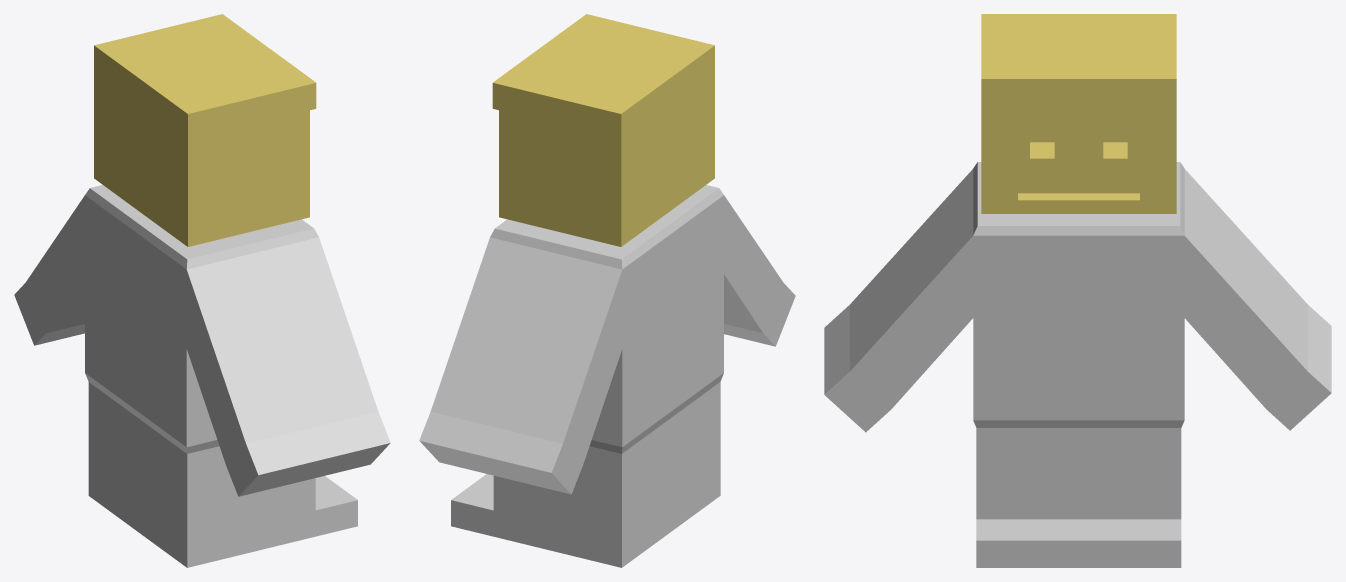
The model's file is guy.glb.
The picture shows the model from 3 angles, left to right: view 1: azimuth 30°, elevation 25°; view 2: azimuth 150°, elevation 25°; view 3: azimuth 270°, elevation 25°; orthographic projection. The views are drawn at different scales.
Parts seen in each view (by area): view 1: Plane; view 2: Plane; view 3: Plane.
Boxes of the visible parts, left/top/right/bottom form: Plane: left=14, top=14, right=390, bottom=567; Plane: left=419, top=14, right=795, bottom=567; Plane: left=824, top=14, right=1331, bottom=567.
Bounding box in the file's own units: 0.5433 × 1.36 × 1.33.
